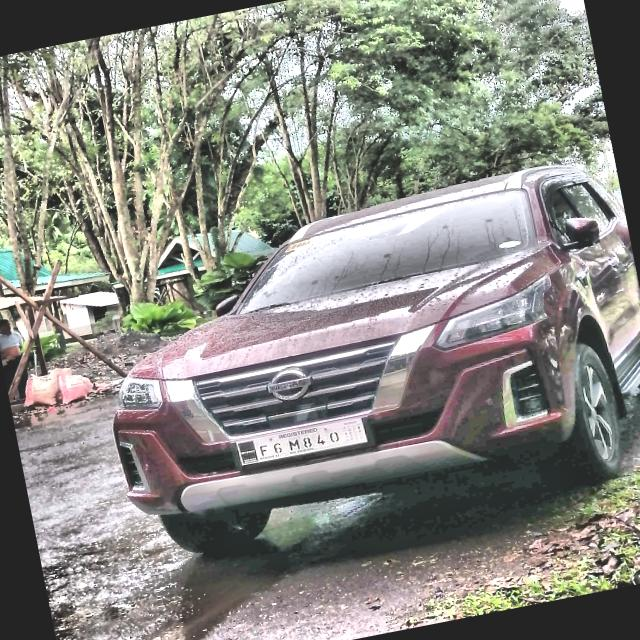license-plate: (236, 417, 368, 468)
